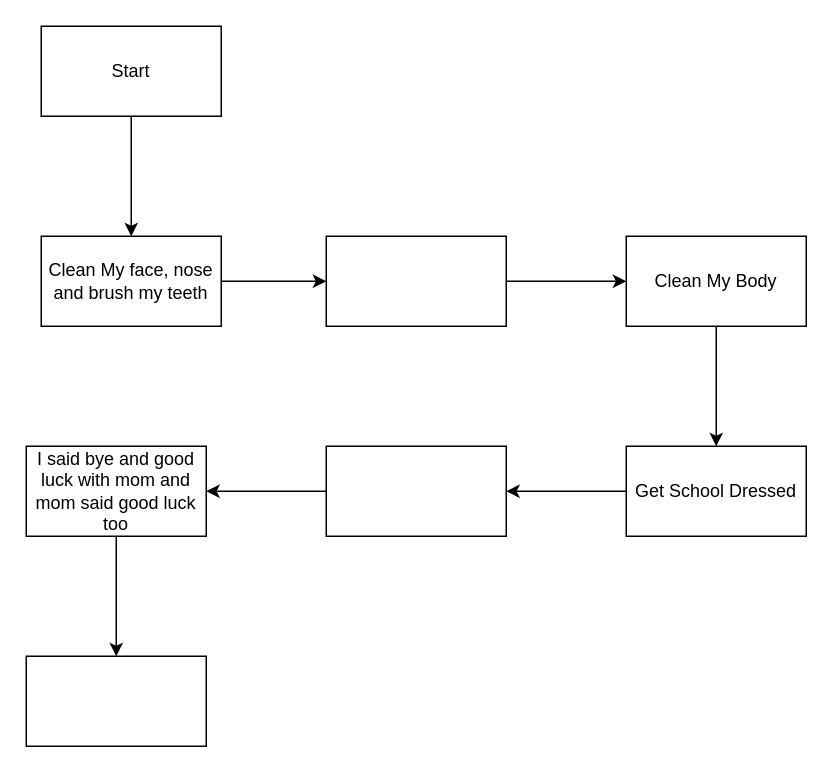
The diagram is 833 pixels wide and 773 high, and some of its shapes have lost their labels. The centre of each missing label's shape, as x and y in pixels:
"Eat Breakfast" belongs at [415,280].
"End" belongs at [115,700].
"My mom drive a car to school" belongs at [415,490].
